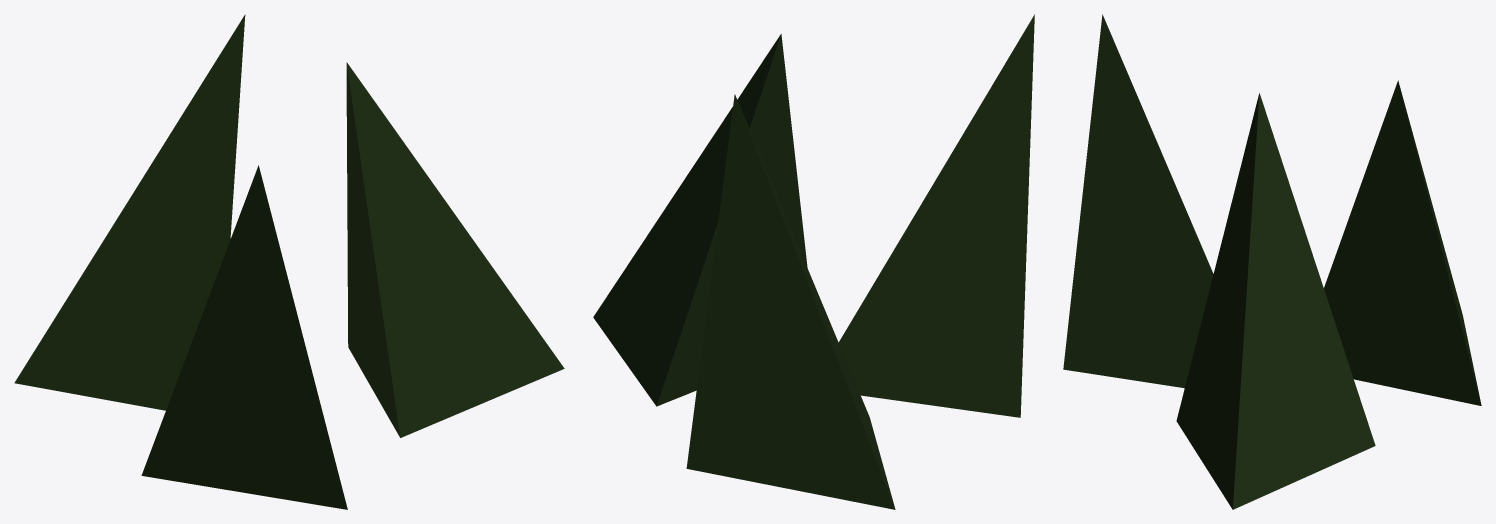
Rendered from grass.FBX.
3 views of the same model, side by side, from view 1: azimuth 30°, elevation 25°; view 2: azimuth 150°, elevation 25°; view 3: azimuth 270°, elevation 25° (orthographic). The views are drawn at different scales.
Visible parts, largest first — view 1: grass; view 2: grass; view 3: grass.
Part boxes in pixels (x1=…): grass: x1=14, y1=14, x2=564, y2=509; grass: x1=593, y1=14, x2=1034, y2=509; grass: x1=1063, y1=14, x2=1481, y2=509.
Size of the model in its own units: 2.08 by 1.61 by 1.88.
